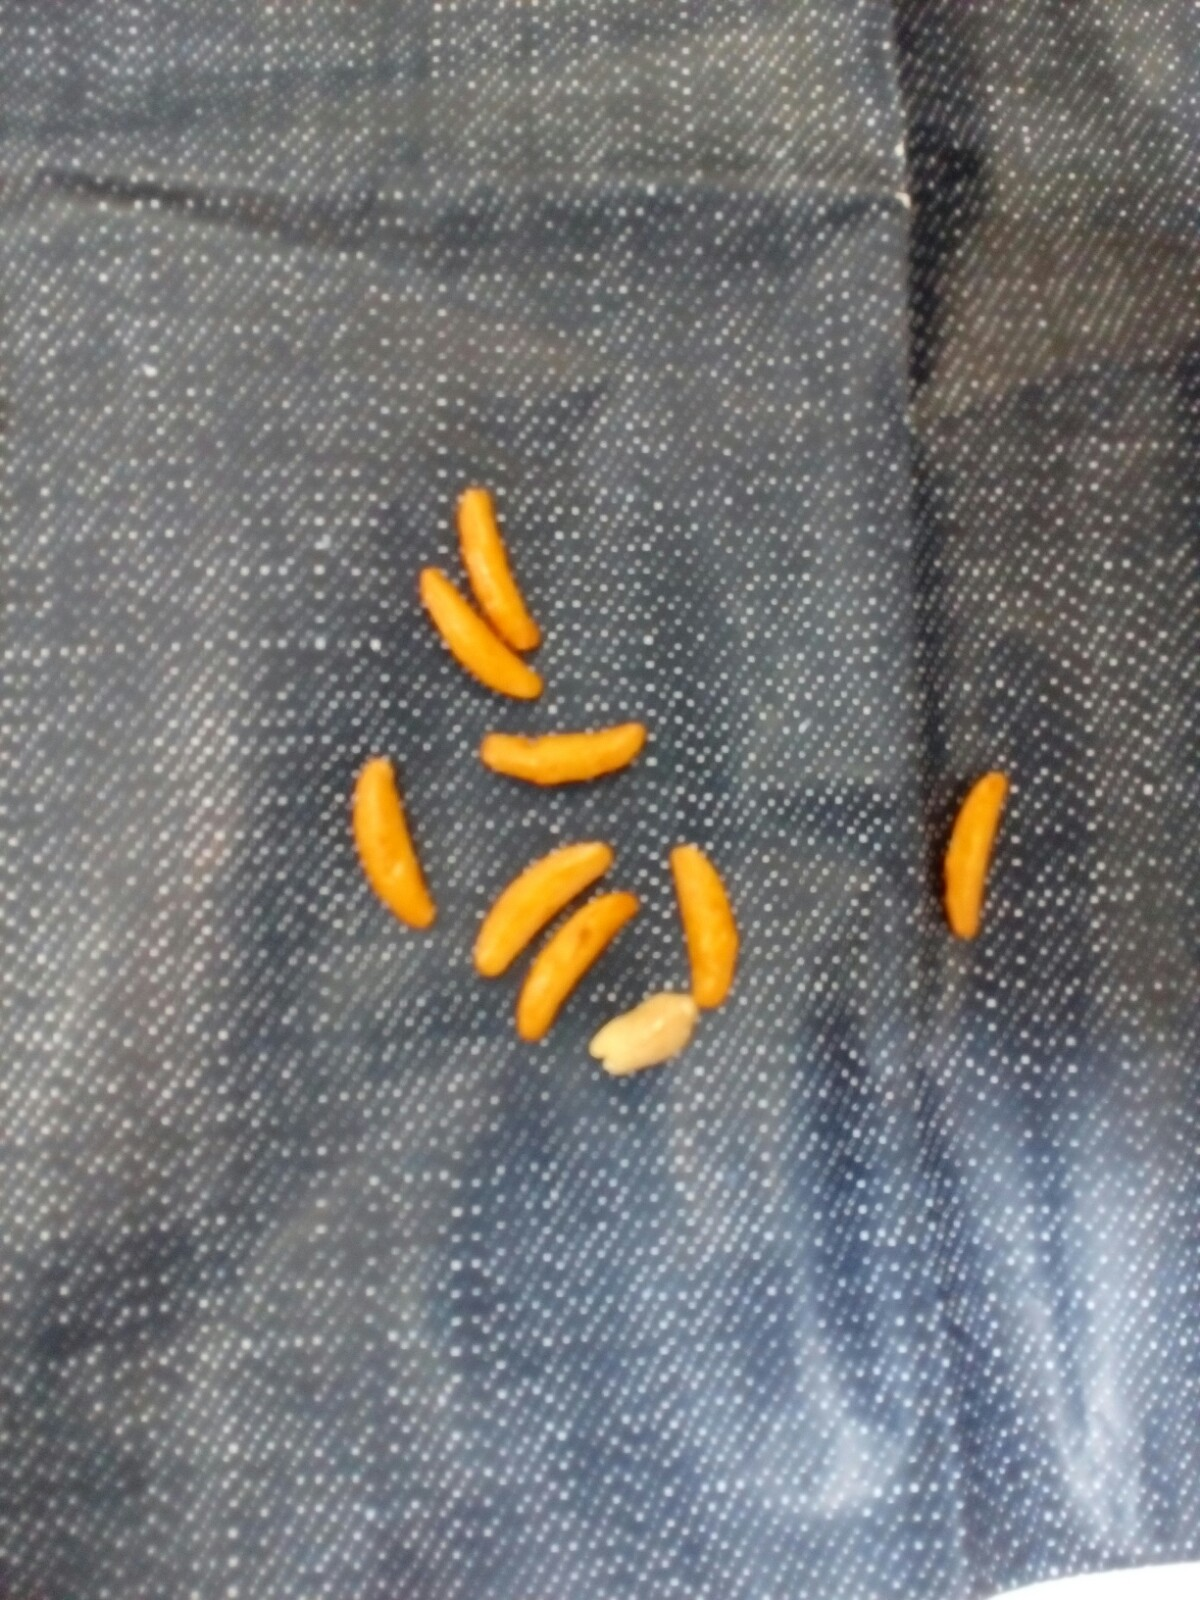peanut: (586, 980, 708, 1082)
